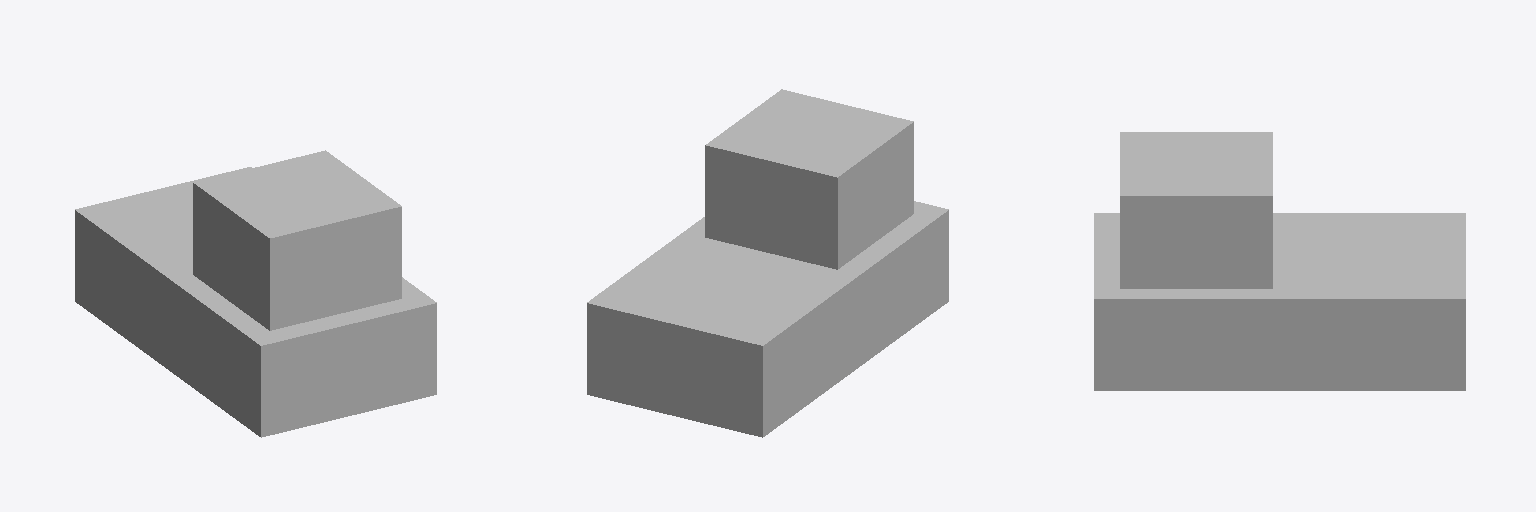
The model's file is player_legR.obj.
The picture shows the model from 3 angles: view 1: azimuth 30°, elevation 25°; view 2: azimuth 150°, elevation 25°; view 3: azimuth 270°, elevation 25°; orthographic projection.
Parts seen in each view (by area): view 1: LegR_立方体.003; view 2: LegR_立方体.003; view 3: LegR_立方体.003.
Part boxes in pixels (bbox=[...]): LegR_立方体.003: bbox=[75, 150, 436, 437]; LegR_立方体.003: bbox=[587, 89, 948, 437]; LegR_立方体.003: bbox=[1094, 132, 1465, 390].
Bounding box in the file's own units: 0.7999 × 0.7969 × 1.46.